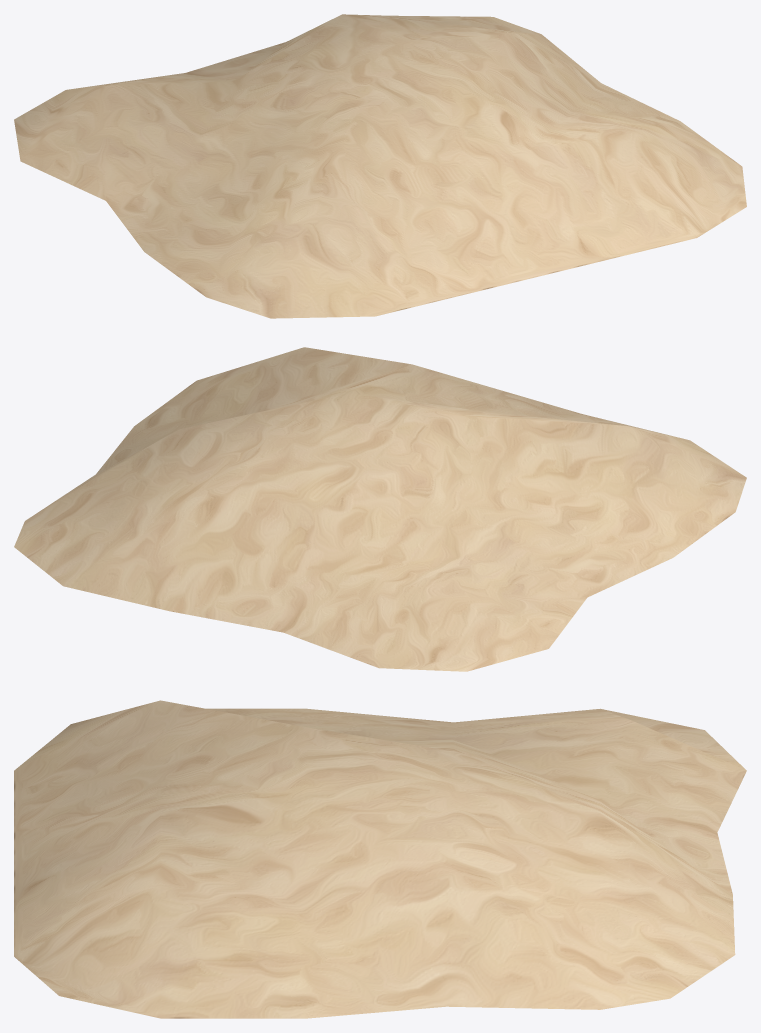
Rendered from Sand_01.fbx.
3 views of the same model, one above another, from view 1: azimuth 30°, elevation 25°; view 2: azimuth 150°, elevation 25°; view 3: azimuth 270°, elevation 25° (orthographic). The views are drawn at different scales.
Parts seen in each view (by area): view 1: Sand_01; view 2: Sand_01; view 3: Sand_01.
Boxes of the visible parts, x1=… form: Sand_01: x1=14, y1=14, x2=746, y2=318; Sand_01: x1=14, y1=347, x2=746, y2=671; Sand_01: x1=14, y1=700, x2=746, y2=1018.
Size of the model in its own units: 200 by 31.7 by 200.
